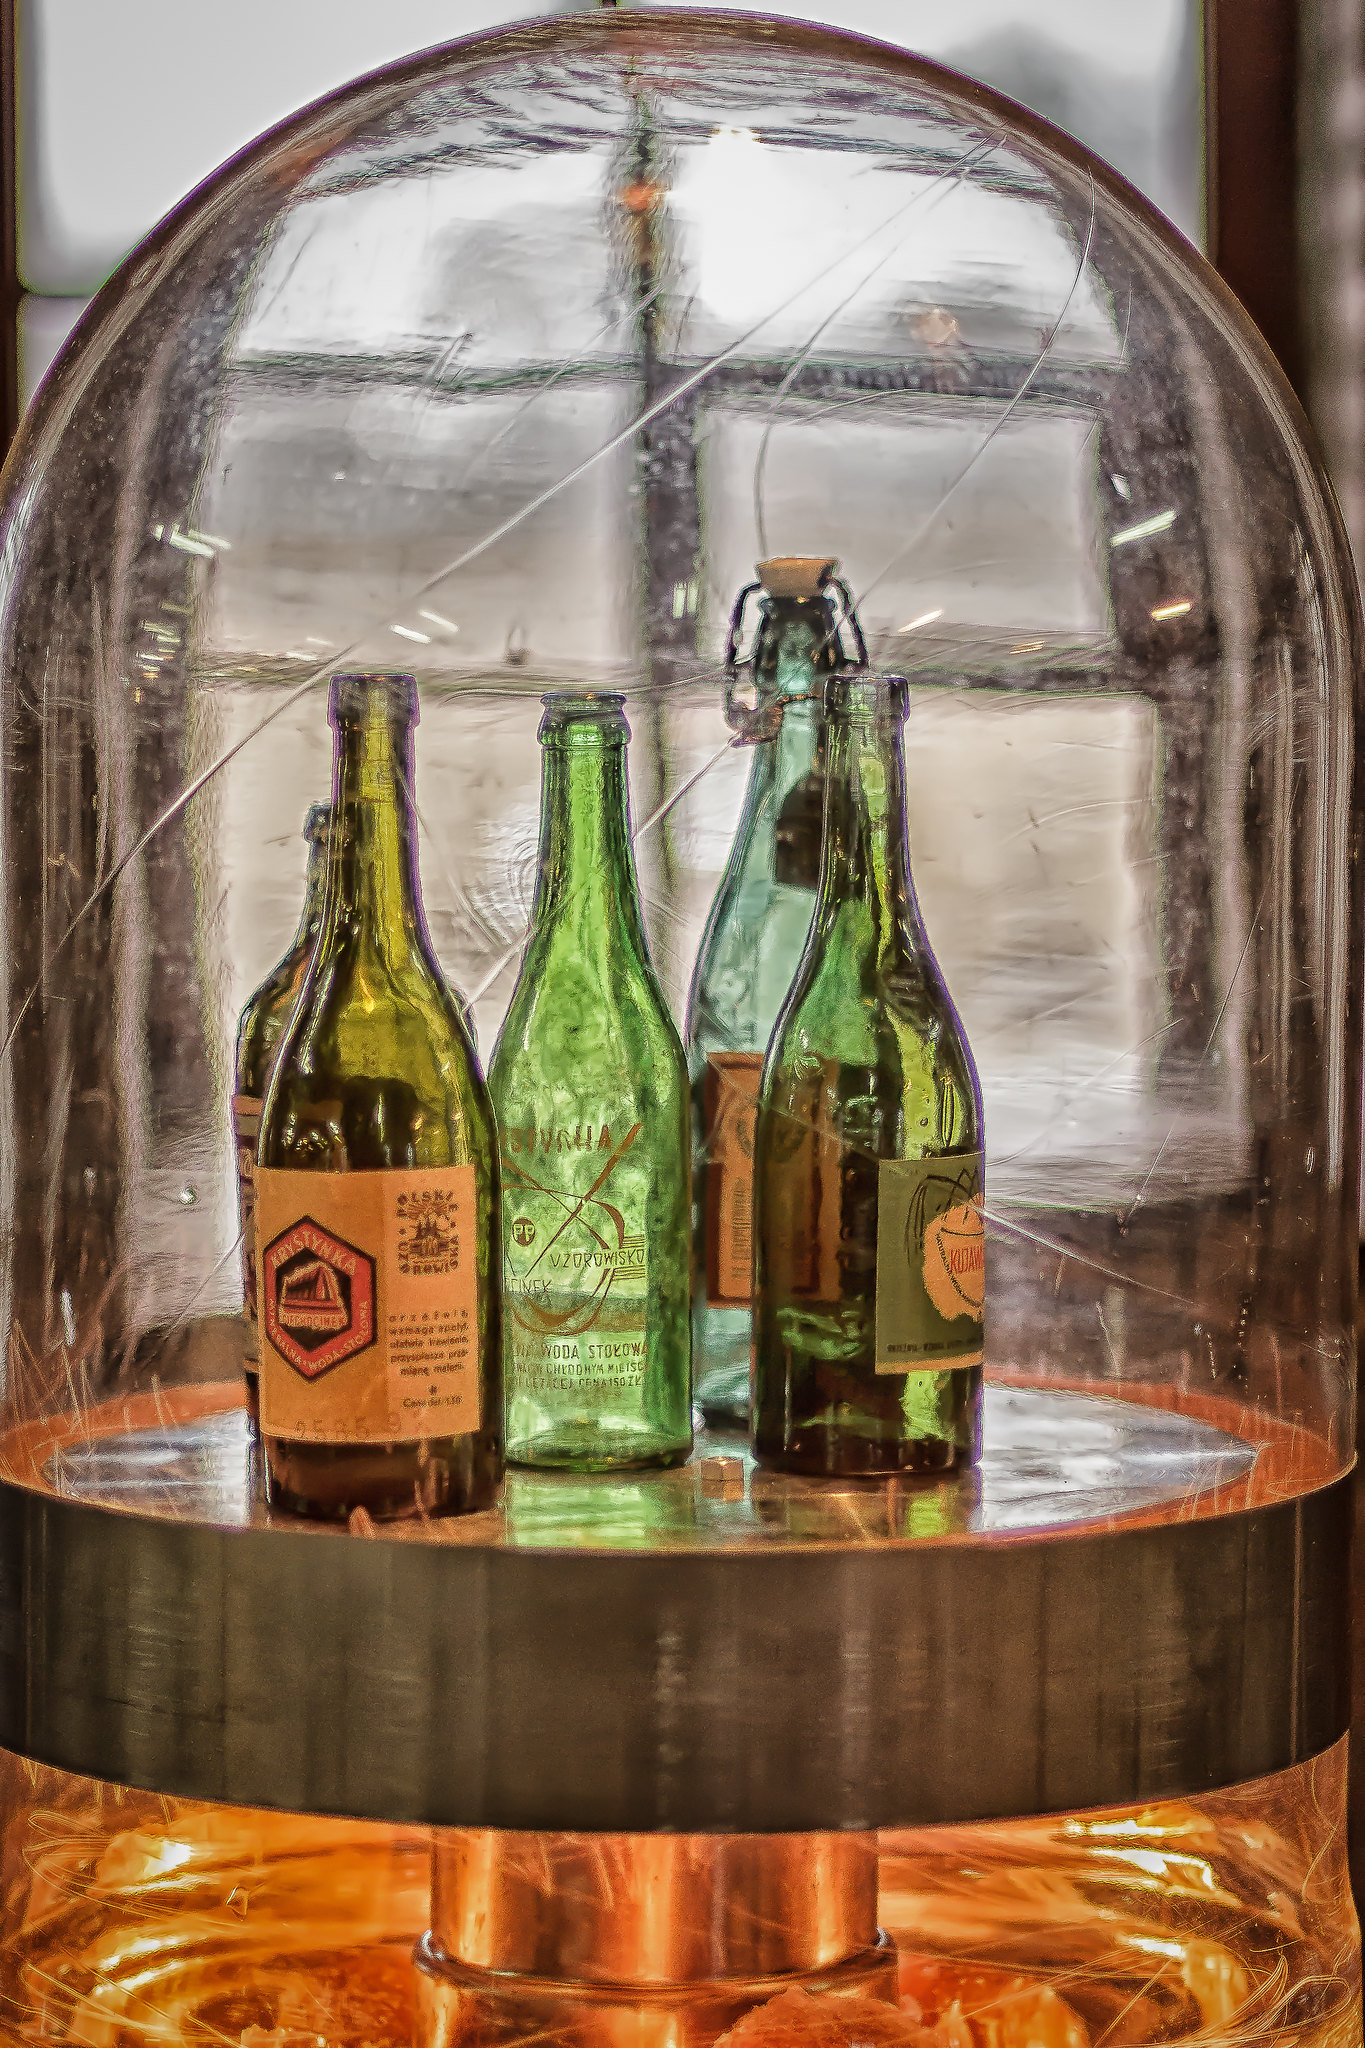Bottle: (213, 652, 498, 1552), (396, 675, 687, 1475), (724, 646, 989, 1469)
